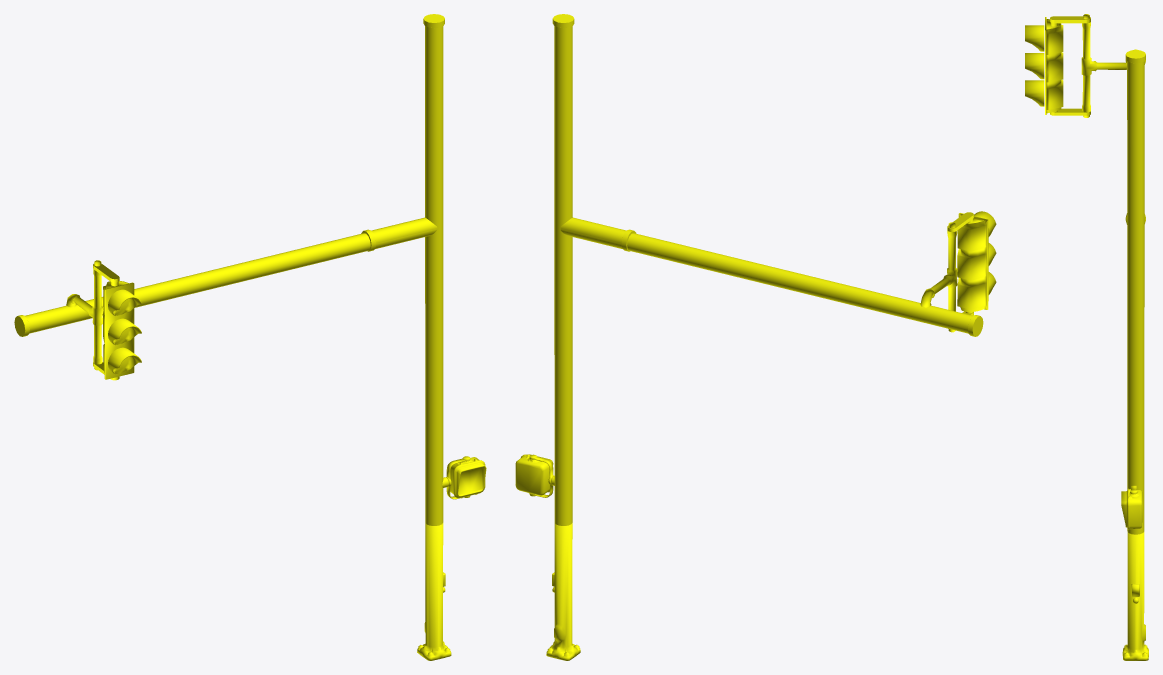
The model's file is traffic_light_a.glb.
3 renders of one model, left to right at view 1: azimuth 30°, elevation 25°; view 2: azimuth 150°, elevation 25°; view 3: azimuth 270°, elevation 25°, orthographic. The views are drawn at different scales.
Visible parts, largest first — view 1: traffic_light_signal_metal, traffic_light_signal; view 2: traffic_light_signal_metal, traffic_light_signal; view 3: traffic_light_signal_metal, traffic_light_signal.
Part boxes in pixels (bbox=[...]): traffic_light_signal_metal: bbox=[14, 14, 444, 525]; traffic_light_signal: bbox=[66, 260, 486, 660]; traffic_light_signal_metal: bbox=[552, 14, 983, 525]; traffic_light_signal: bbox=[515, 211, 996, 660]; traffic_light_signal_metal: bbox=[1125, 49, 1145, 534]; traffic_light_signal: bbox=[1025, 14, 1148, 660].
Bounding box in the file's own units: 7.87 × 10.36 × 1.94.
2 materials, 2 textured.
